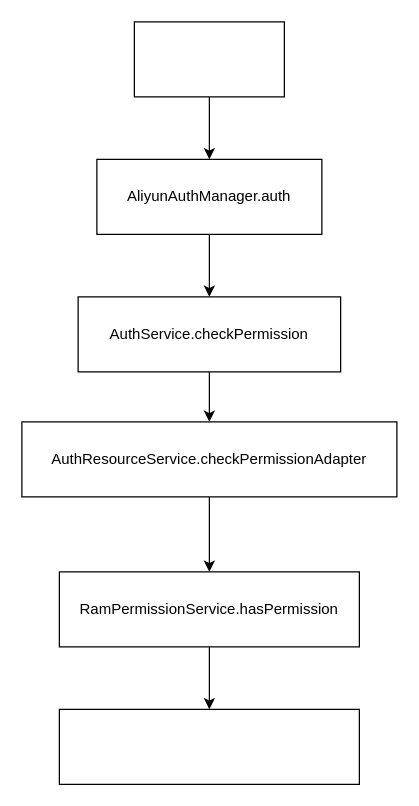
Some shapes in this 419 by 806 pixel diagram are drawn without their labels. Each missing label, with the centre of its shape:
"AuthFilter.doFilter" belongs at (x=208, y=59).
"RamPermissionService.evaluate" belongs at (x=208, y=746).
